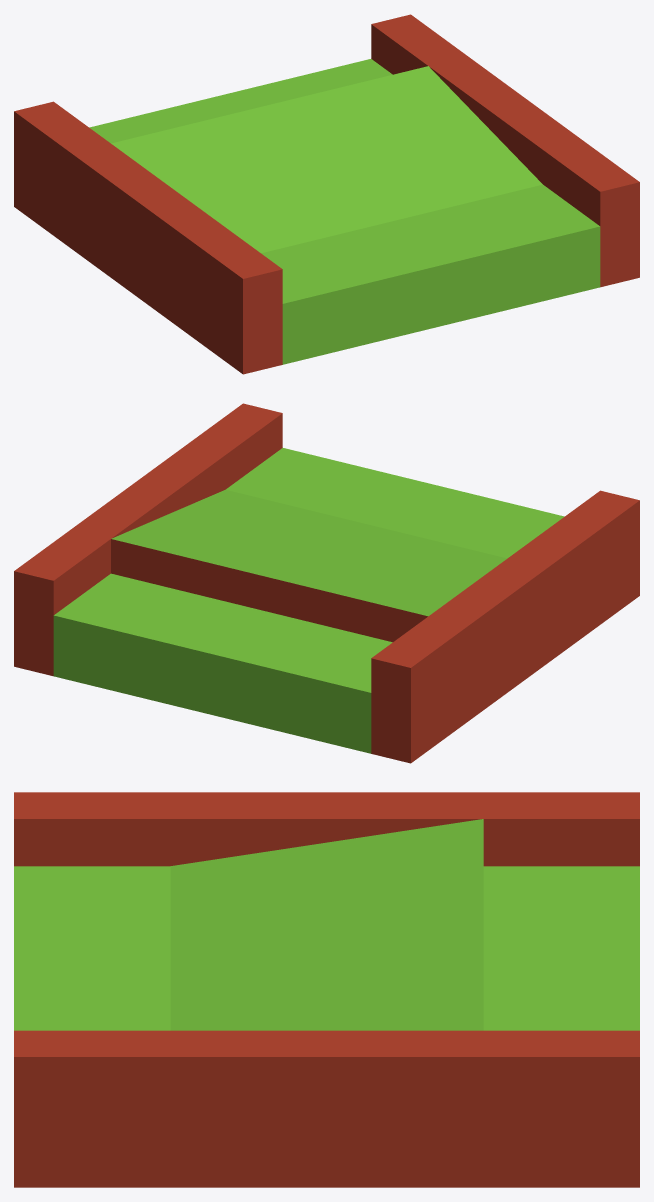
The model's file is Ramp_OneWay.FBX.
The picture shows the model from 3 angles, top to bottom: view 1: azimuth 30°, elevation 25°; view 2: azimuth 150°, elevation 25°; view 3: azimuth 270°, elevation 25°; orthographic projection. The views are drawn at different scales.
Parts seen in each view (by area): view 1: Ramp_sharp_01, Walls; view 2: Ramp_sharp_01, Walls; view 3: Walls, Ramp_sharp_01.
Boxes of the visible parts, x1,y1,x2,y2 form: Ramp_sharp_01: (89,59,600,364); Walls: (14,14,639,374); Ramp_sharp_01: (53,448,564,753); Walls: (14,403,639,763); Walls: (14,792,639,1187); Ramp_sharp_01: (14,819,639,1030).
Size of the model in its own units: 0.9999 by 0.9999 by 0.23.
